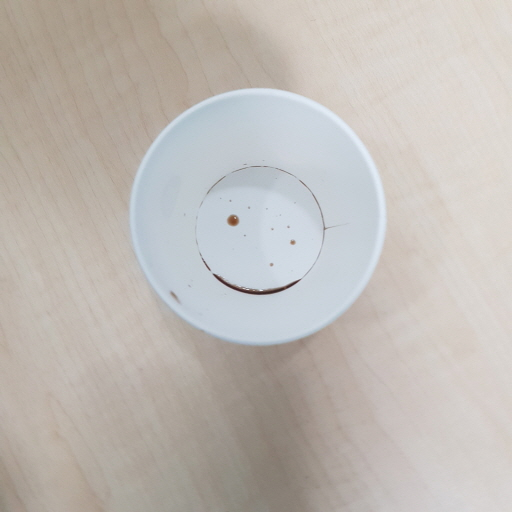Paper_1: (129, 84, 389, 349)
